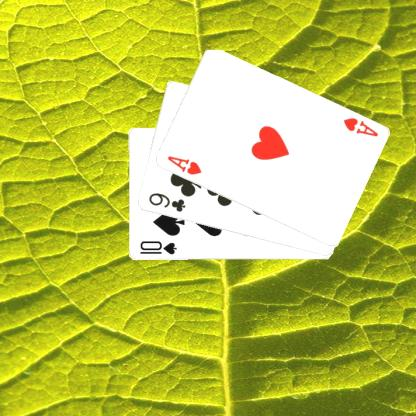10S: (136, 239, 178, 256)
9C: (145, 190, 187, 214)
AH: (164, 153, 203, 177), (340, 115, 379, 139)
